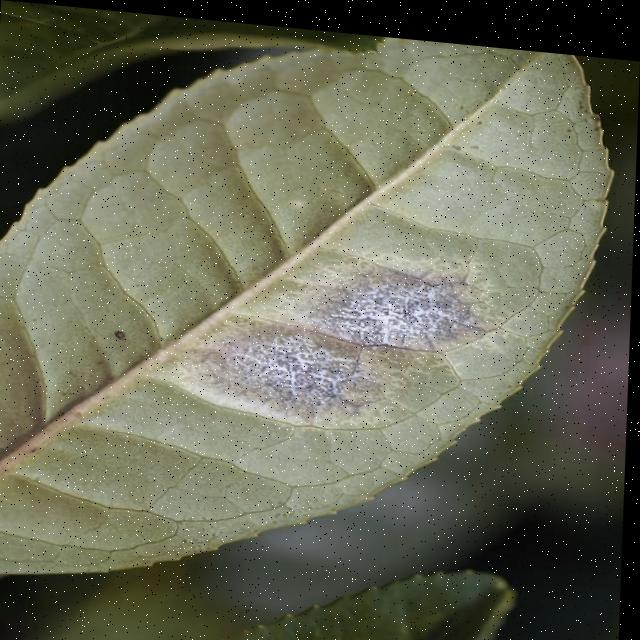Tea exobasidium blight: (221, 307, 390, 419), (330, 257, 478, 352)
